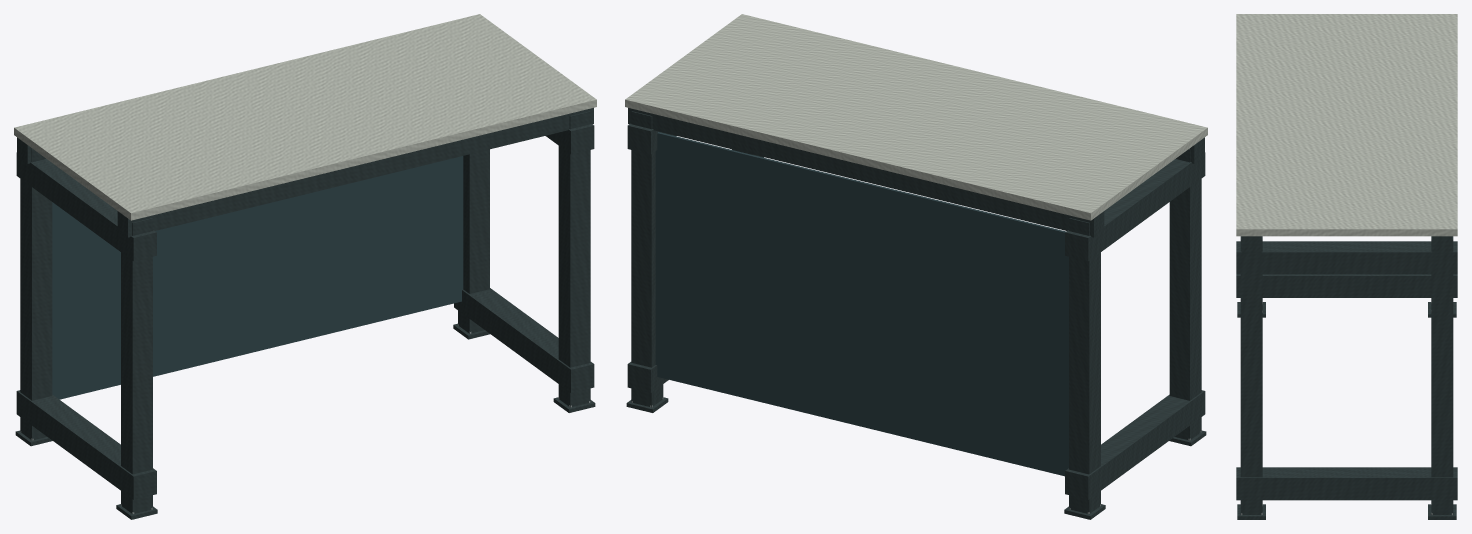
3 renders of one model, left to right at view 1: azimuth 30°, elevation 25°; view 2: azimuth 150°, elevation 25°; view 3: azimuth 270°, elevation 25°, orthographic. The views are drawn at different scales.
Parts seen in each view (by area): view 1: B020-06_roof_panel, B020-06_windscreen_glass, B020-06_support_iron, B020-06_frame_iron, B020-06_base_iron; view 2: B020-06_windscreen_glass, B020-06_roof_panel, B020-06_support_iron, B020-06_frame_iron, B020-06_base_iron; view 3: B020-06_roof_panel, B020-06_frame_iron, B020-06_support_iron, B020-06_base_iron.
Boxes of the visible parts, <box> form: B020-06_roof_panel: <box>14,14,596,220</box>; B020-06_windscreen_glass: <box>52,156,463,399</box>; B020-06_support_iron: <box>20,111,590,513</box>; B020-06_frame_iron: <box>16,108,594,499</box>; B020-06_base_iron: <box>15,323,595,519</box>; B020-06_windscreen_glass: <box>655,132,1068,476</box>; B020-06_roof_panel: <box>625,14,1207,220</box>; B020-06_support_iron: <box>631,111,1201,513</box>; B020-06_frame_iron: <box>627,108,1205,499</box>; B020-06_base_iron: <box>626,397,1206,519</box>; B020-06_roof_panel: <box>1236,14,1457,236</box>; B020-06_frame_iron: <box>1236,236,1457,500</box>; B020-06_support_iron: <box>1240,236,1453,514</box>; B020-06_base_iron: <box>1237,302,1456,519</box>.
Size of the model in its own units: 4.6 by 2.9 by 2.
Materials: 4 (4 with a texture image).
